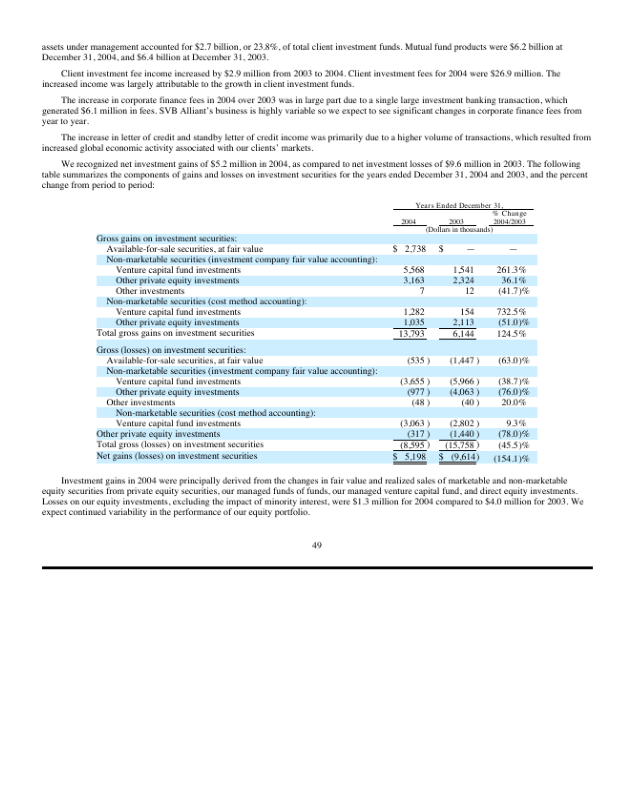table: (389, 200, 537, 464)
